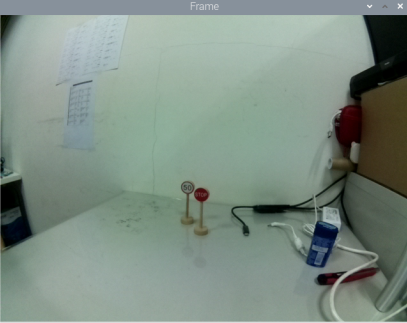Speed50: (179, 178, 195, 196)
Stop: (193, 187, 211, 205)
